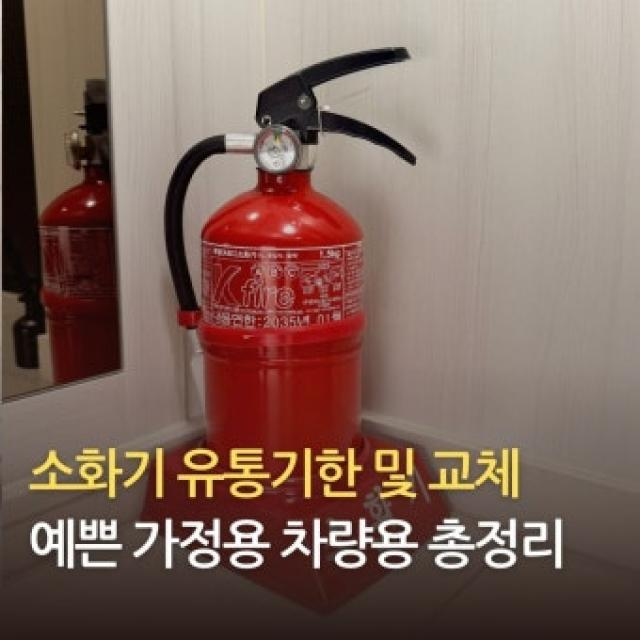pressure gauge: (255, 125, 301, 173)
